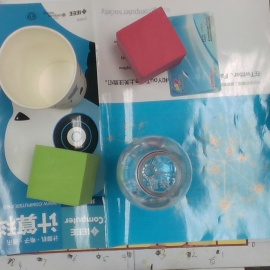bottle: (116, 134, 192, 209)
card: (164, 12, 222, 97)
cup: (2, 27, 96, 112)
